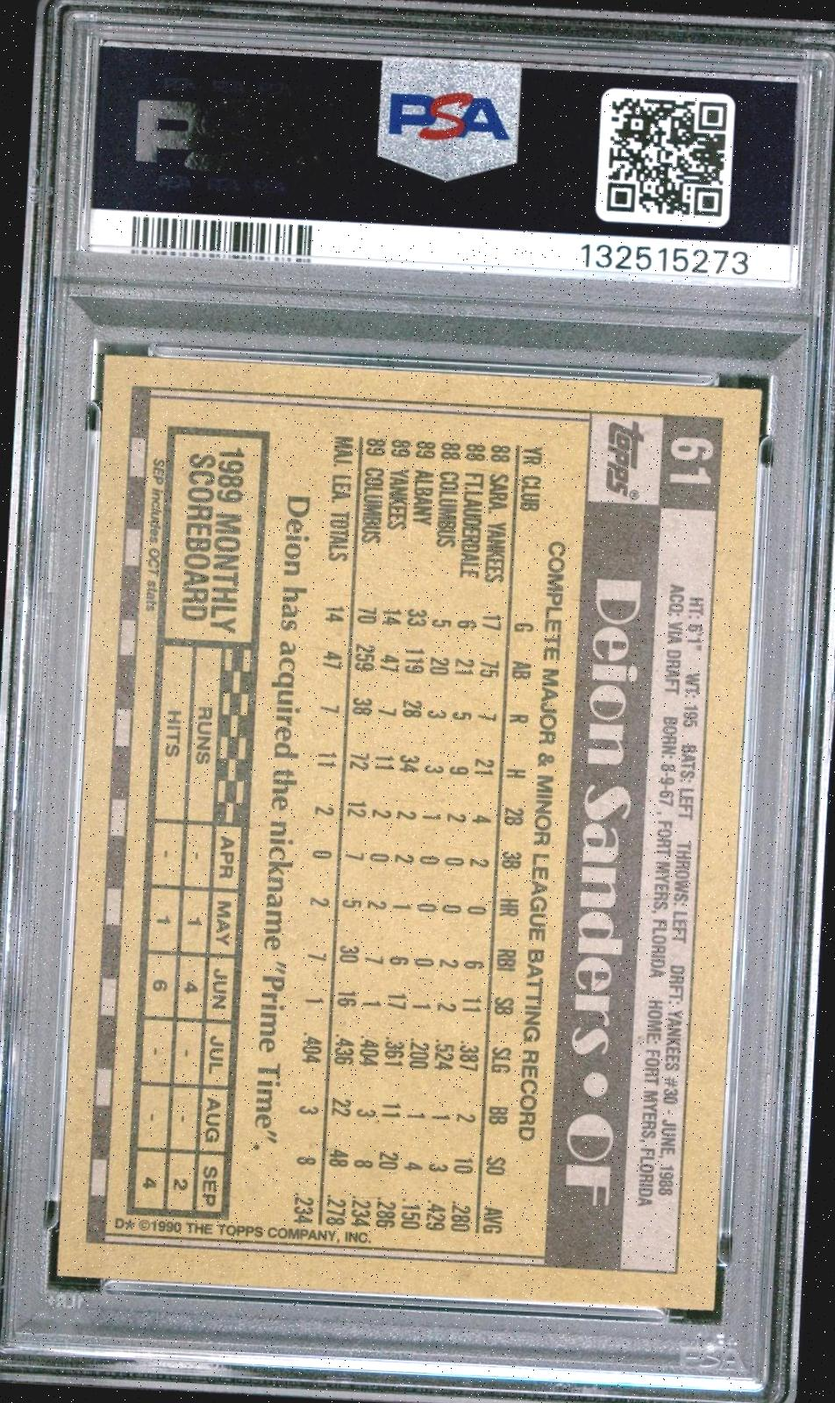card-2UtV: (56, 353, 763, 1311)
